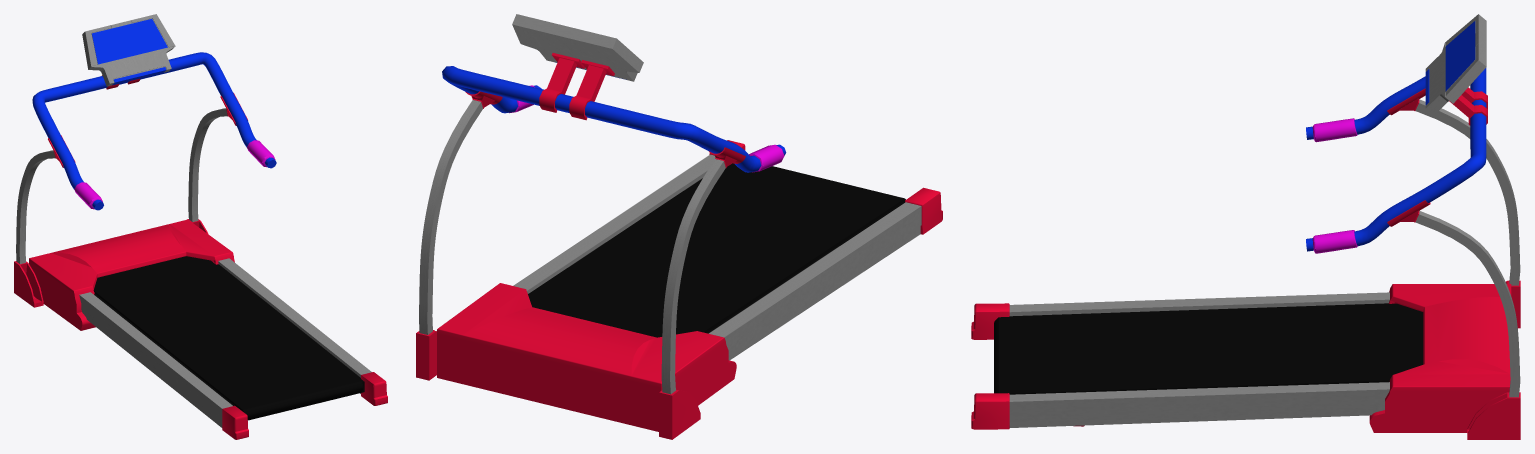
The model's file is Treadmill.fbx.
3 renders of one model, left to right at view 1: azimuth 30°, elevation 25°; view 2: azimuth 150°, elevation 25°; view 3: azimuth 270°, elevation 25°, orthographic. The views are drawn at different scales.
Visible parts, largest first — view 1: treadmill; view 2: treadmill; view 3: treadmill.
Boxes of the visible parts, bbox=[...] form: treadmill: bbox=[14, 14, 387, 439]; treadmill: bbox=[416, 14, 942, 439]; treadmill: bbox=[971, 14, 1520, 439].
Bounding box in the file's own units: 5.57 × 10.75 × 7.43.
